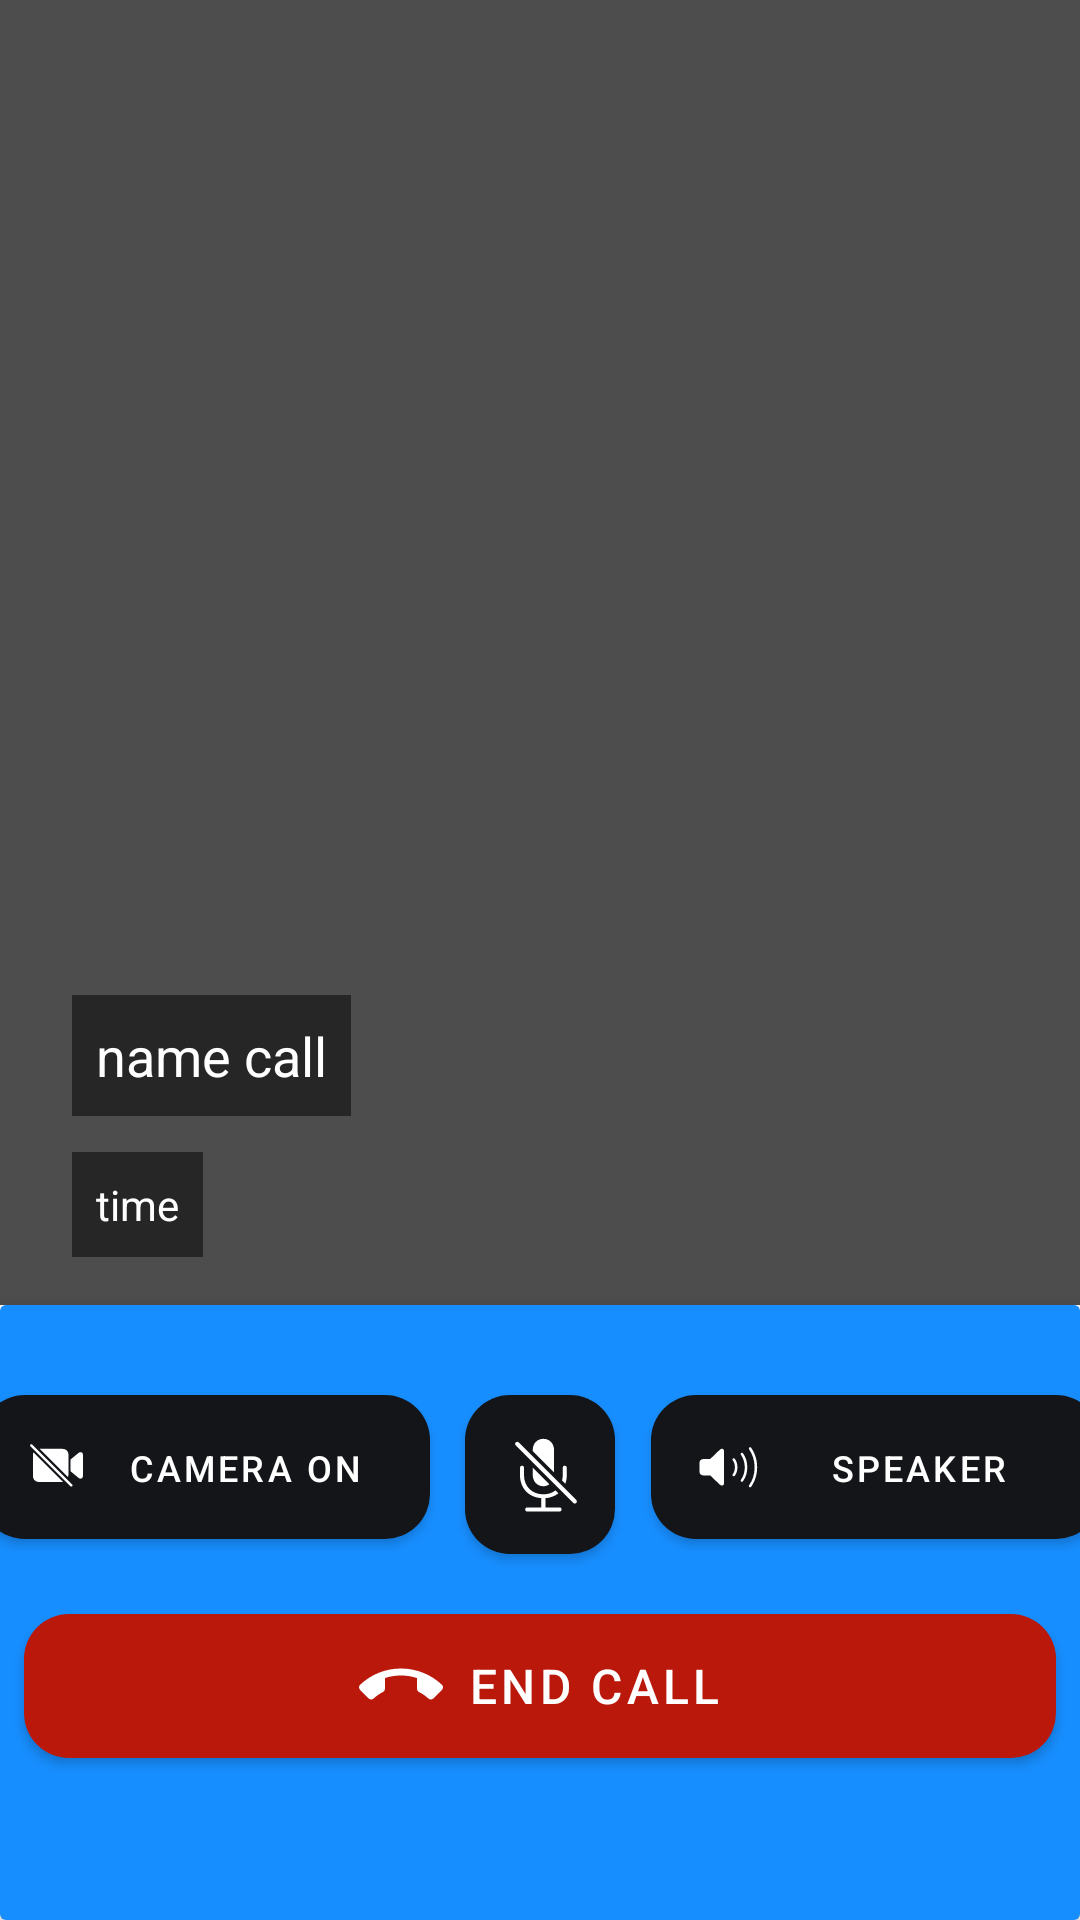

Screen size 1080 × 1920. Icon name, then its center in pixels as point (x, y):
mice: point (540, 1476)
